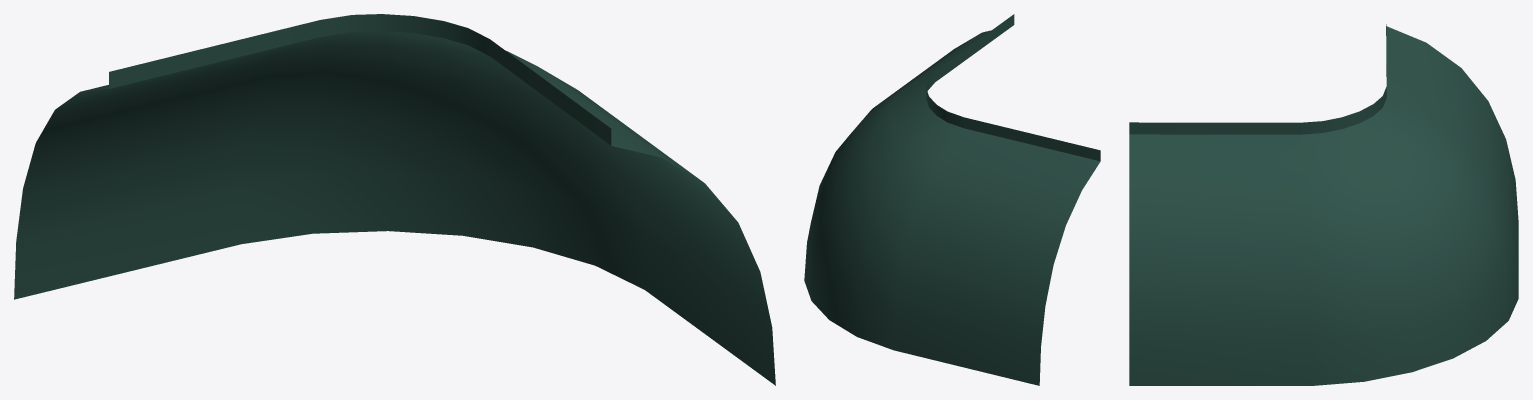
File: W2_WallCorner_Round1_TopCurvedA.fbx
3 views of the same model, side by side, from view 1: azimuth 30°, elevation 25°; view 2: azimuth 150°, elevation 25°; view 3: azimuth 270°, elevation 25° (orthographic). The views are drawn at different scales.
Parts seen in each view (by area): view 1: W2_WallCorner_Round1_TopCurvedA.001; view 2: W2_WallCorner_Round1_TopCurvedA.001; view 3: W2_WallCorner_Round1_TopCurvedA.001.
Part boxes in pixels (x1=…): W2_WallCorner_Round1_TopCurvedA.001: x1=14, y1=14, x2=775, y2=385; W2_WallCorner_Round1_TopCurvedA.001: x1=804, y1=14, x2=1100, y2=385; W2_WallCorner_Round1_TopCurvedA.001: x1=1129, y1=24, x2=1518, y2=385.
Size of the model in its own units: 0.85 by 0.5 by 0.85.
